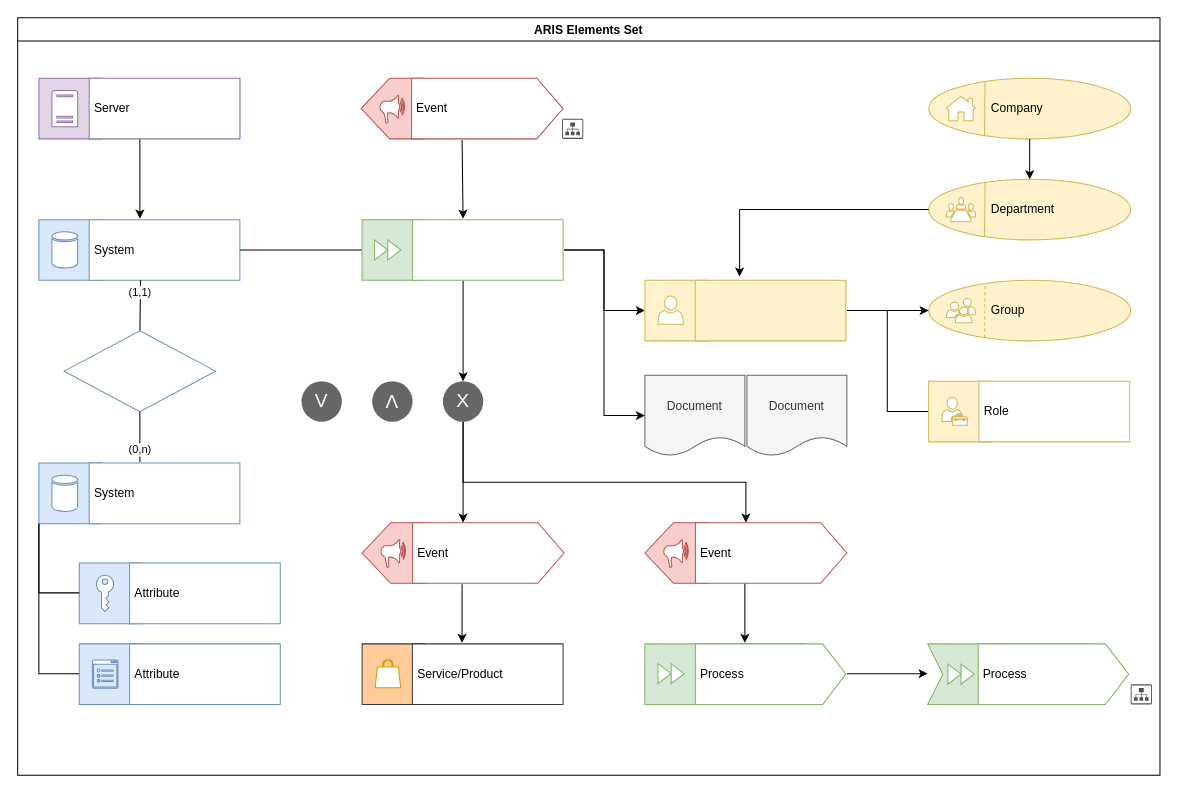
Some shapes in this 1178 by 793 pixel diagram are drawn without their labels. Each missing label, with the centre of its shape:
"Activity" goes at (487,249).
"Relationship" goes at (139,371).
"Stuff" goes at (770,310).
